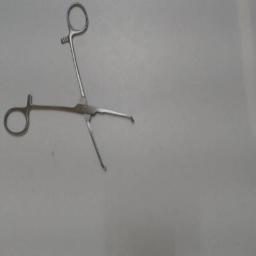Allis Tissue Forceps: (2, 0, 142, 180)
